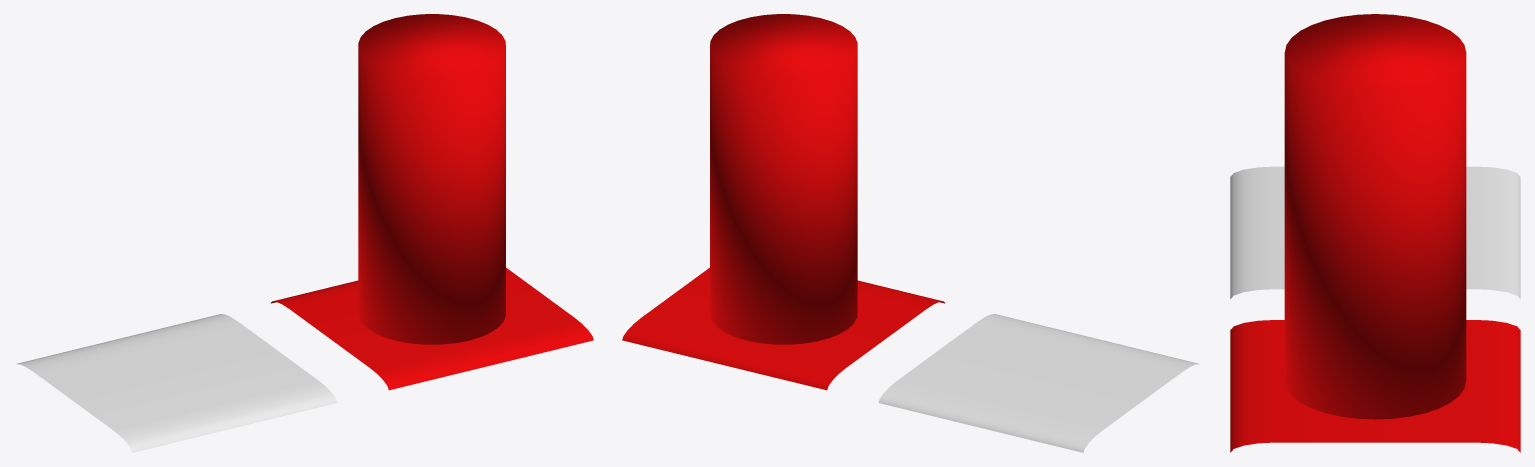
The model's file is rounded_plank.glb.
3 views of the same model, side by side, from view 1: azimuth 30°, elevation 25°; view 2: azimuth 150°, elevation 25°; view 3: azimuth 270°, elevation 25° (orthographic). The views are drawn at different scales.
Visible parts, largest first — view 1: fisherman_plank, rounded_plank; view 2: fisherman_plank, rounded_plank; view 3: fisherman_plank, rounded_plank.
Boxes of the visible parts, x1,y1,x2,y2 form: fisherman_plank: [270, 14, 593, 390]; rounded_plank: [17, 314, 337, 452]; fisherman_plank: [622, 14, 945, 390]; rounded_plank: [878, 314, 1198, 452]; fisherman_plank: [1230, 14, 1520, 452]; rounded_plank: [1230, 166, 1520, 298].
Bounding box in the file's own units: 1.8 × 1.03 × 0.8.
